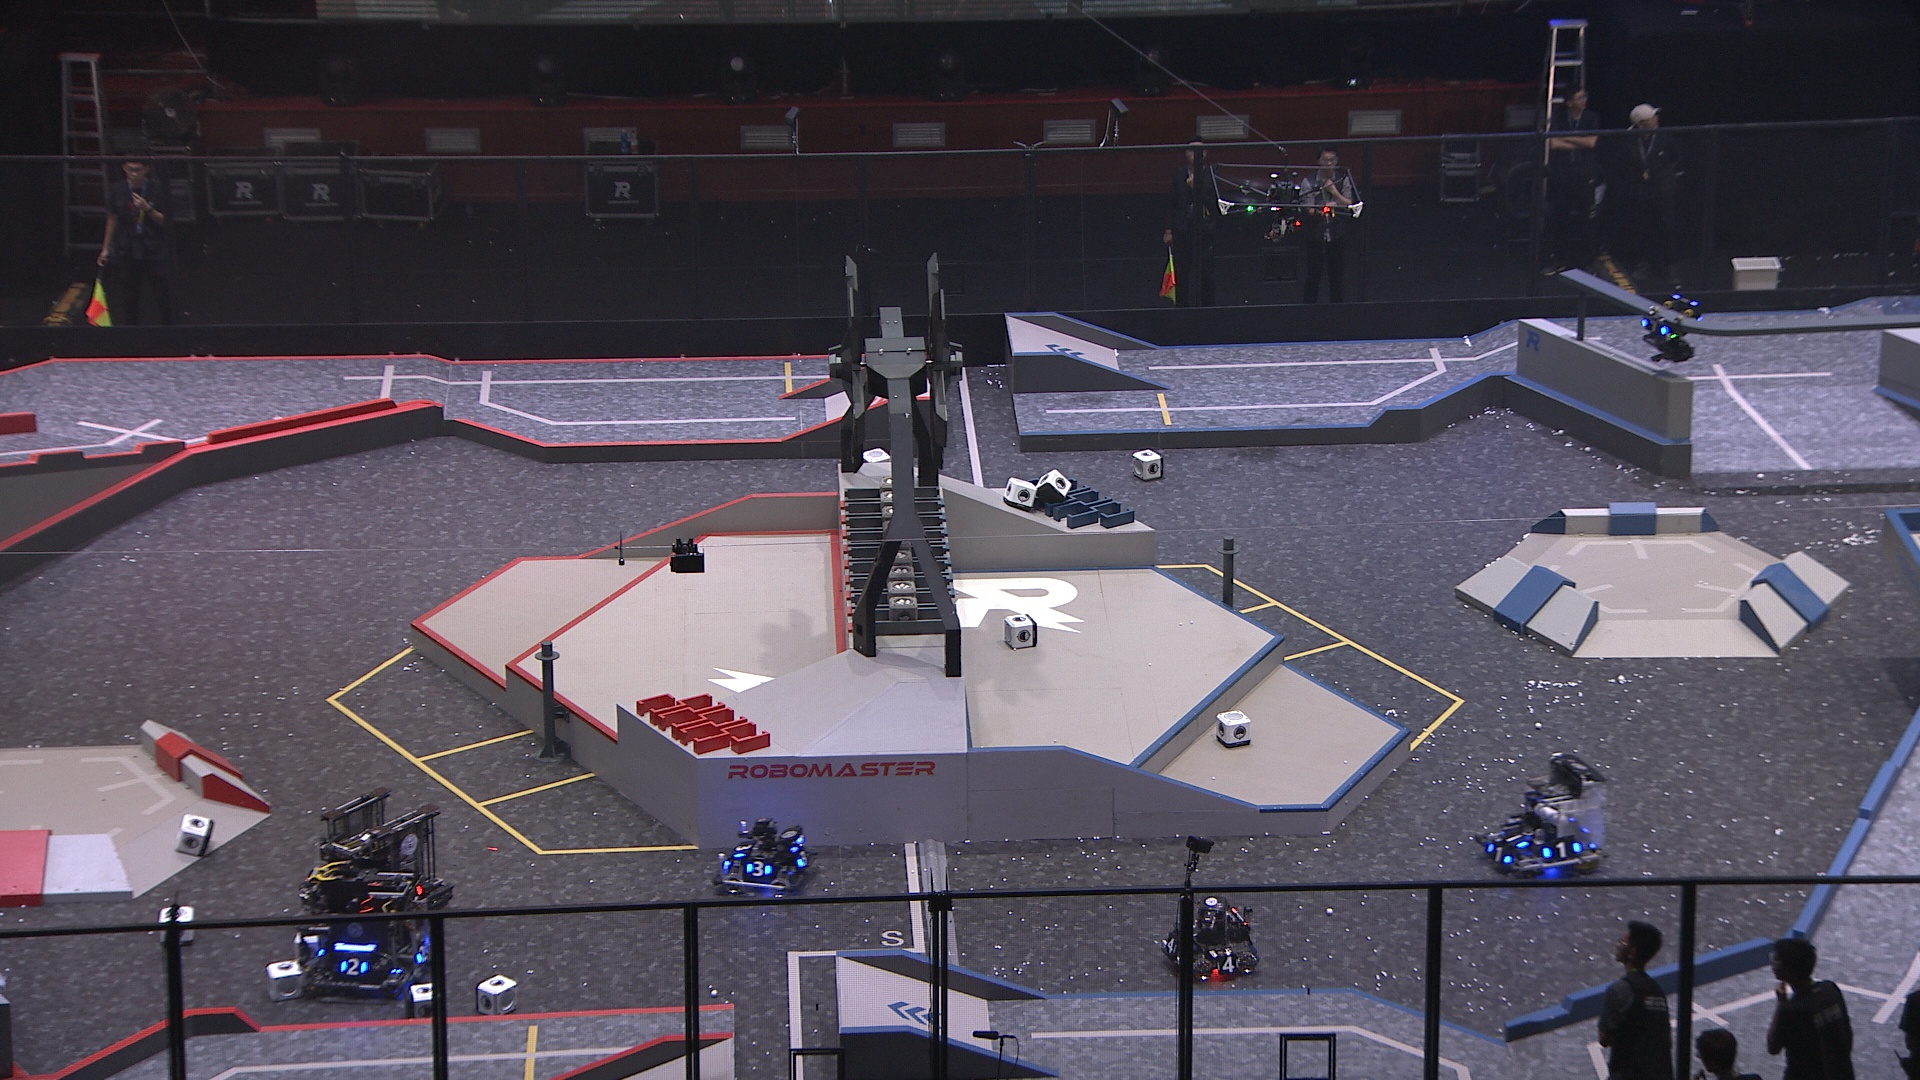armor: (1542, 837, 1584, 862), (1640, 315, 1671, 342), (1486, 843, 1515, 869), (1501, 825, 1531, 851), (338, 956, 371, 977), (1215, 955, 1244, 975), (745, 858, 771, 880), (414, 940, 433, 965), (731, 841, 756, 860), (1163, 934, 1178, 956), (794, 847, 808, 869)
car: (290, 862, 429, 1002), (316, 790, 454, 928), (1474, 752, 1607, 880), (1163, 893, 1267, 986), (716, 815, 825, 893)
watcher: (1636, 284, 1704, 363)
